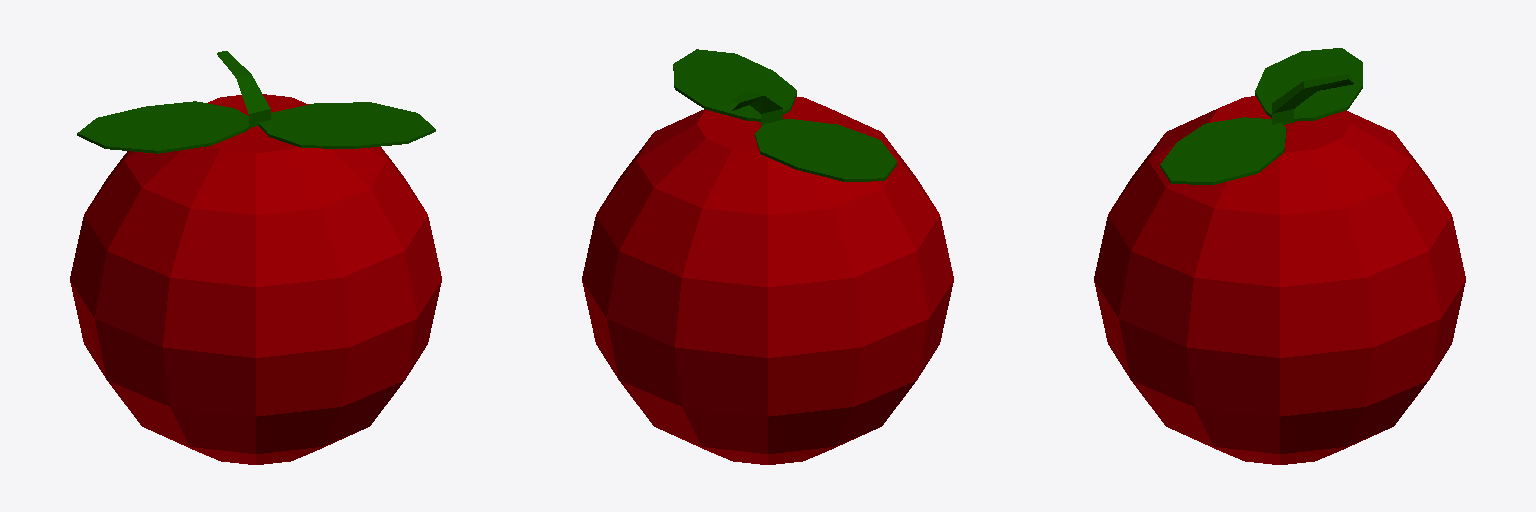
The model's file is apple.obj.
3 views of the same model, side by side, from view 1: azimuth 30°, elevation 25°; view 2: azimuth 150°, elevation 25°; view 3: azimuth 270°, elevation 25° (orthographic).
Visible parts, largest first — view 1: Sphere; view 2: Sphere; view 3: Sphere.
Boxes of the visible parts, x1=… form: Sphere: x1=70, y1=51, x2=441, y2=464; Sphere: x1=582, y1=49, x2=953, y2=464; Sphere: x1=1094, y1=48, x2=1465, y2=464.
Bounding box in the file's own units: 104 × 110 × 104.